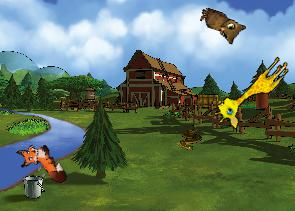fox: (12, 134, 70, 196)
giraffe: (209, 47, 293, 133)
owl: (194, 6, 247, 47)
